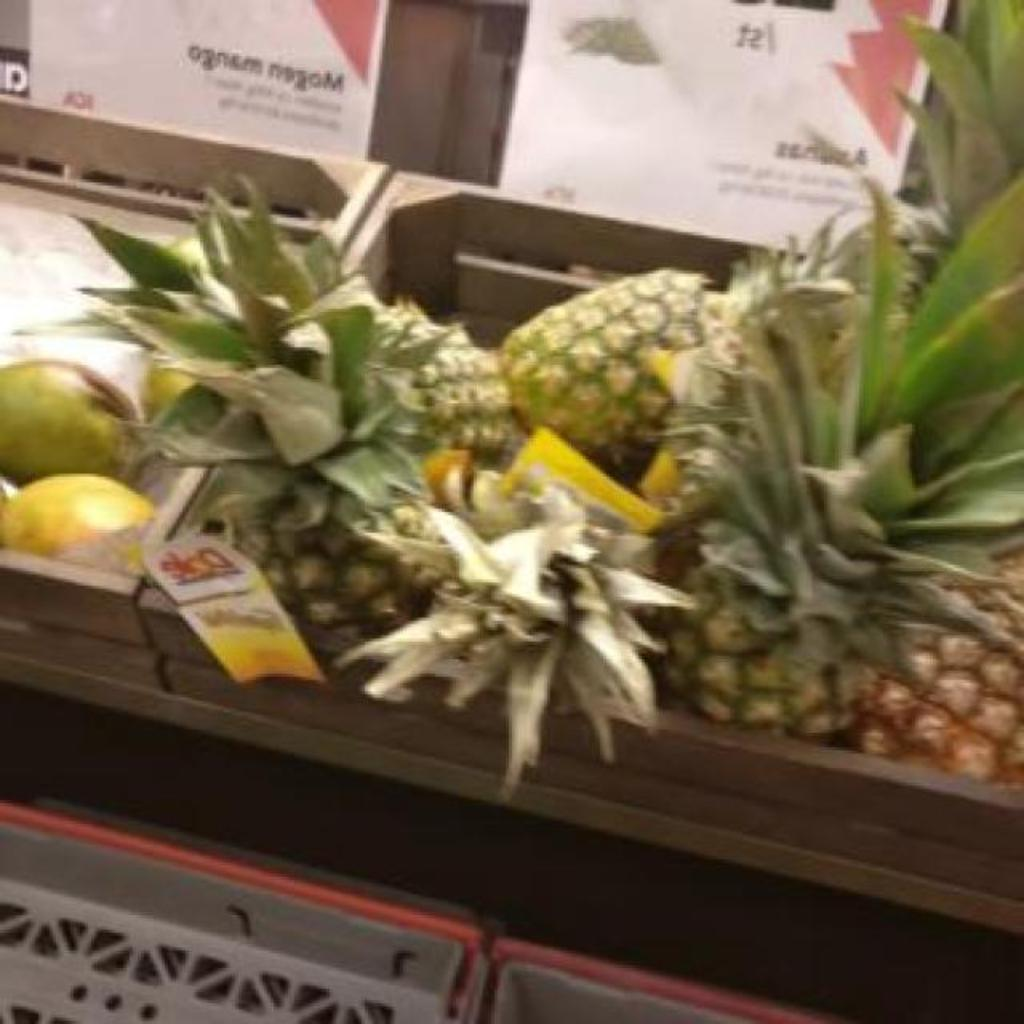pineapple: (682, 0, 1024, 735), (154, 220, 424, 645), (338, 506, 688, 797), (502, 224, 864, 485), (852, 630, 1024, 785), (378, 302, 524, 465), (968, 550, 1022, 641)
